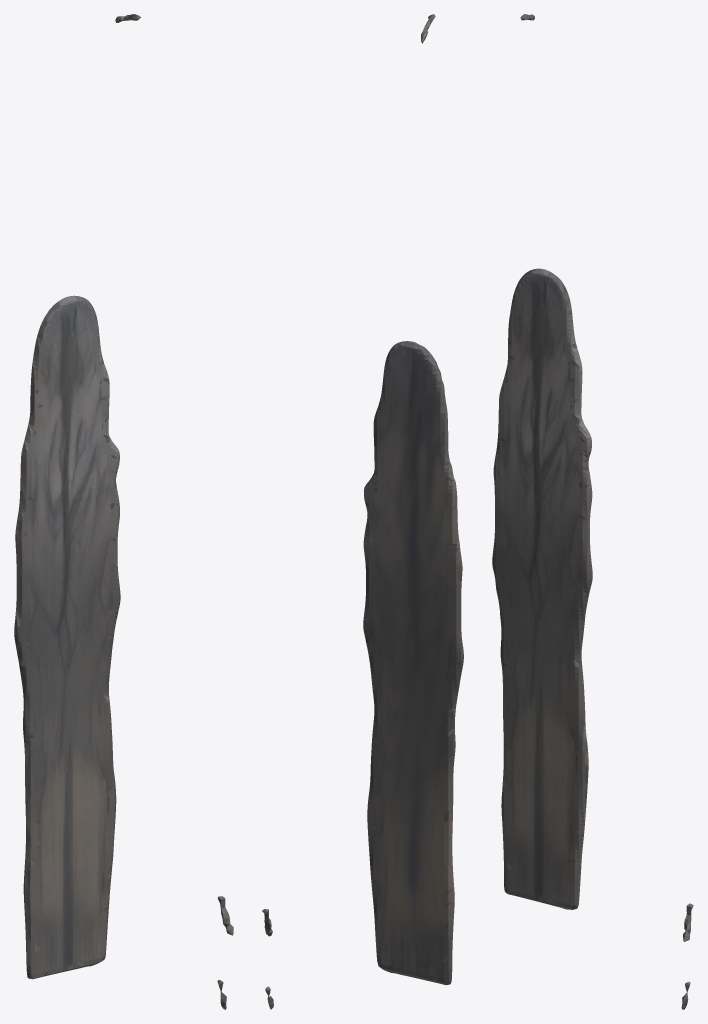
The model's file is garak_doll8.glb.
The picture shows the model from 3 angles, left to right: view 1: azimuth 30°, elevation 25°; view 2: azimuth 150°, elevation 25°; view 3: azimuth 330°, elevation 25°; orthographic projection. The views are drawn at different scales.
Visible parts, largest first — view 1: doll8.obj; view 2: doll8.obj; view 3: doll8.obj.
Boxes of the visible parts, bbox=[...] form: doll8.obj: bbox=[14, 14, 233, 1009]; doll8.obj: bbox=[262, 14, 463, 1009]; doll8.obj: bbox=[492, 14, 693, 1009].
Size of the model in its own units: 0.3229 by 1.52 by 0.1301.
1 material, 1 textured.
